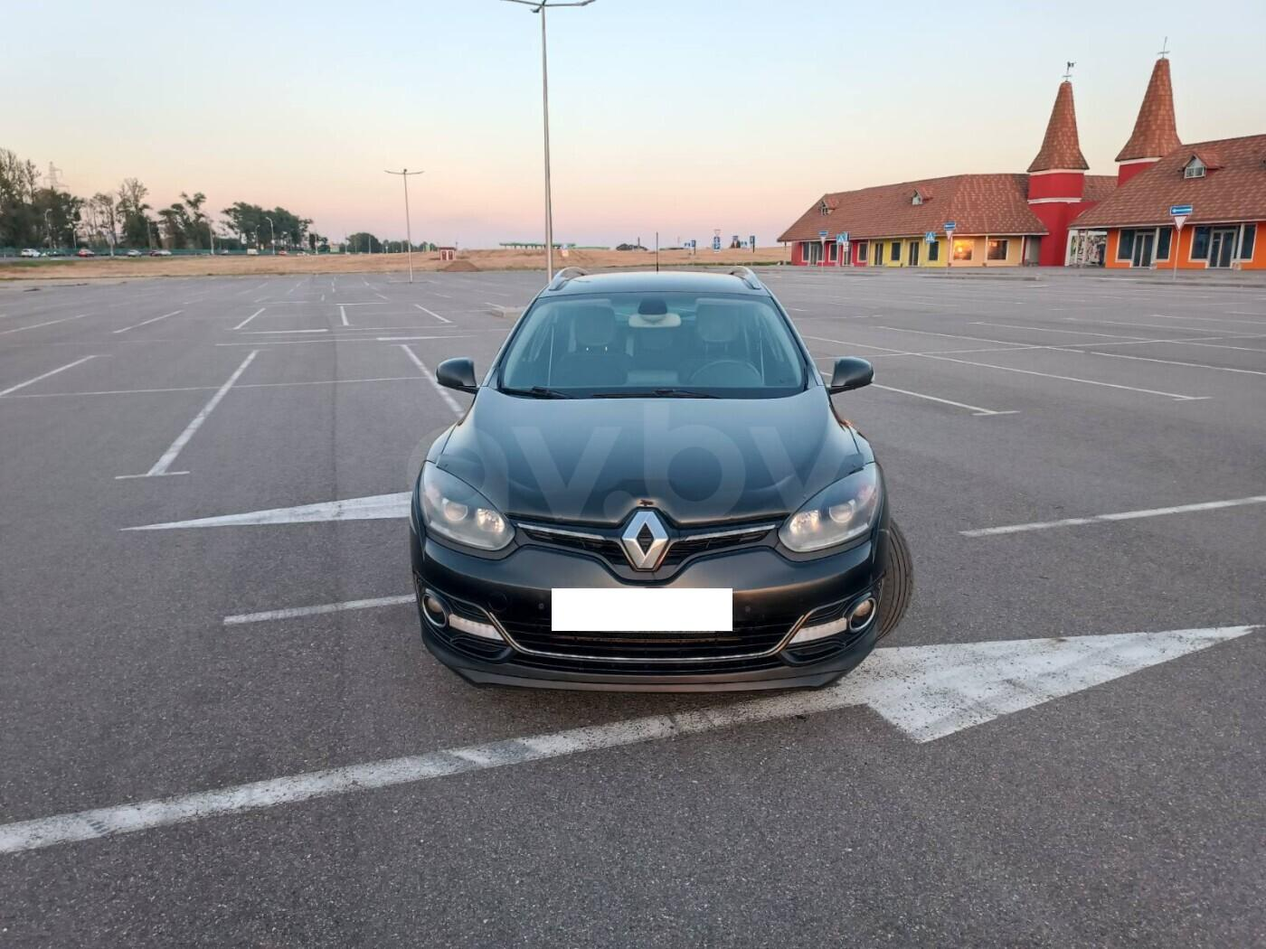Megane_2014-2016: (410, 269, 913, 692)
